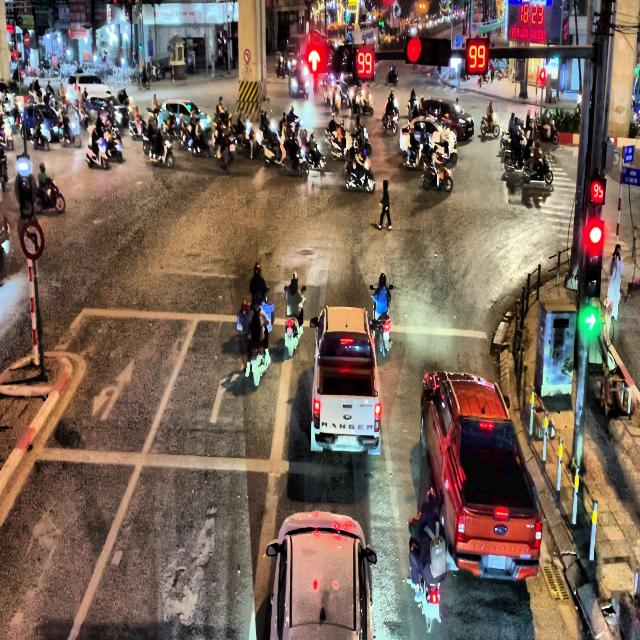lisence_plate: (487, 553, 506, 571), (336, 435, 358, 448)
